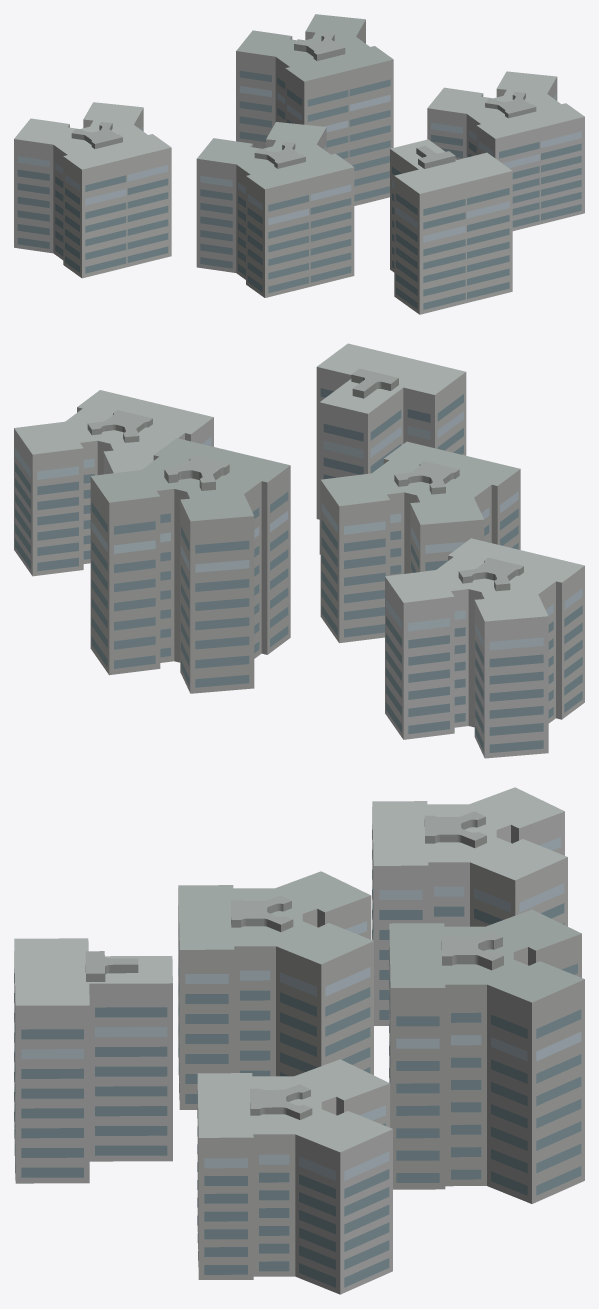
File: apt-a15609001.glb
3 views of the same model, one above another, from view 1: azimuth 30°, elevation 25°; view 2: azimuth 150°, elevation 25°; view 3: azimuth 270°, elevation 25° (orthographic). The views are drawn at different scales.
Parts seen in each view (by area): view 1: apt-a15609001; view 2: apt-a15609001; view 3: apt-a15609001.
Part boxes in pixels (bbox=[...]): apt-a15609001: bbox=[14, 14, 584, 314]; apt-a15609001: bbox=[14, 343, 584, 758]; apt-a15609001: bbox=[14, 787, 584, 1294].
Size of the model in its own units: 120 by 34 by 83.38.
